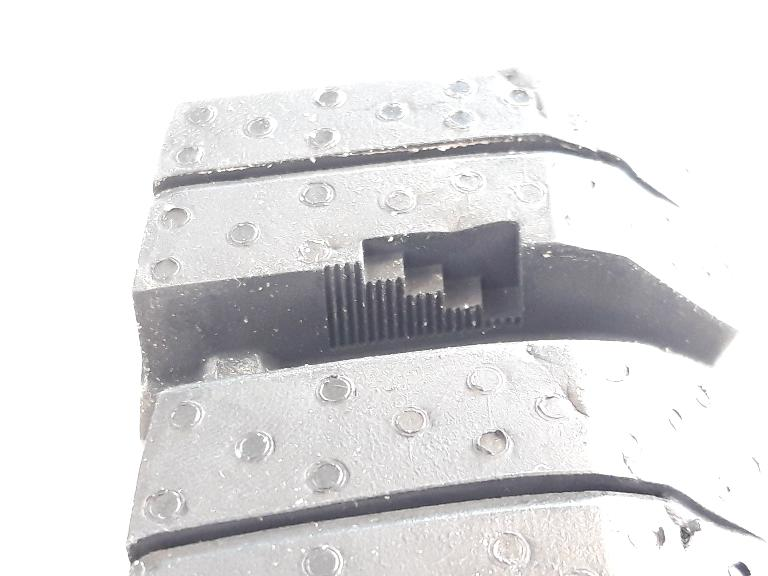temoin:100: (316, 213, 537, 357)
